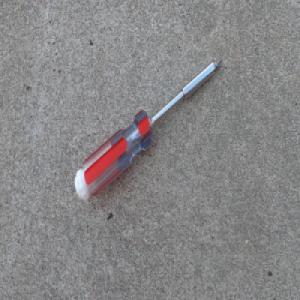Screwdriver: (73, 56, 224, 204)
